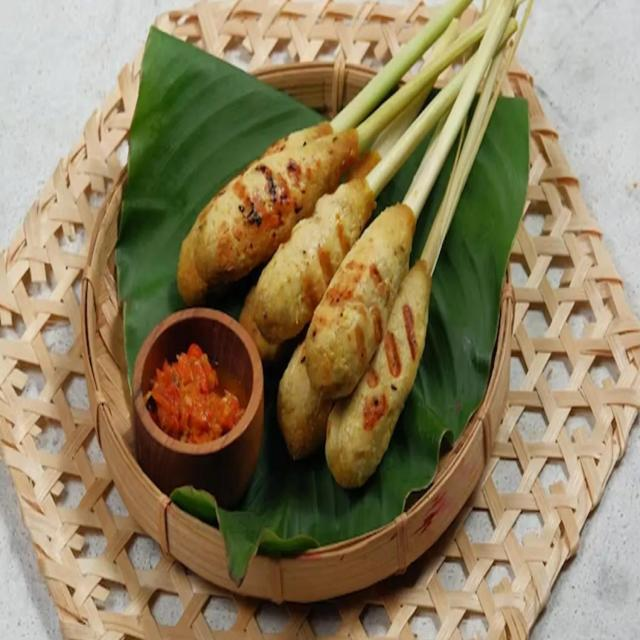Sate: (199, 0, 581, 432)
